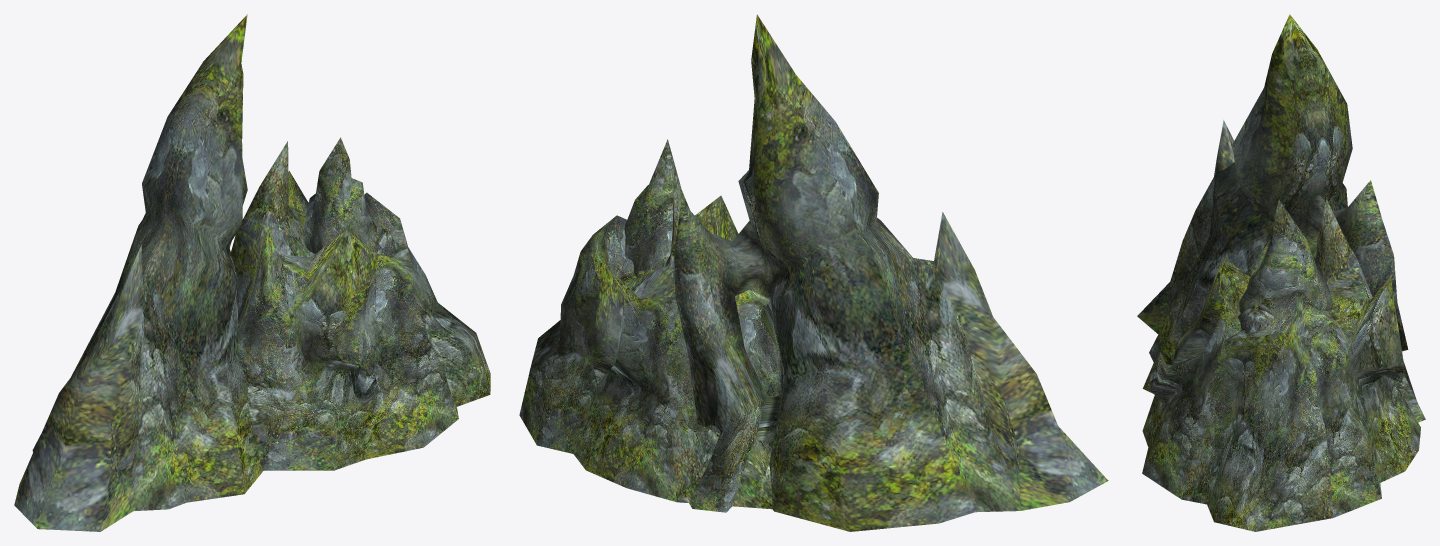
Rendered from S_Rock_Green068.FBX.
3 views of the same model, side by side, from view 1: azimuth 30°, elevation 25°; view 2: azimuth 150°, elevation 25°; view 3: azimuth 270°, elevation 25° (orthographic). The views are drawn at different scales.
Visible parts, largest first — view 1: S_Rock_Green068; view 2: S_Rock_Green068; view 3: S_Rock_Green068.
Part boxes in pixels (x1,y1,x2,y2): S_Rock_Green068: (14, 14, 490, 531); S_Rock_Green068: (519, 14, 1108, 531); S_Rock_Green068: (1137, 14, 1425, 531).
Bounding box in the file's own units: 1189 × 597 × 940.
